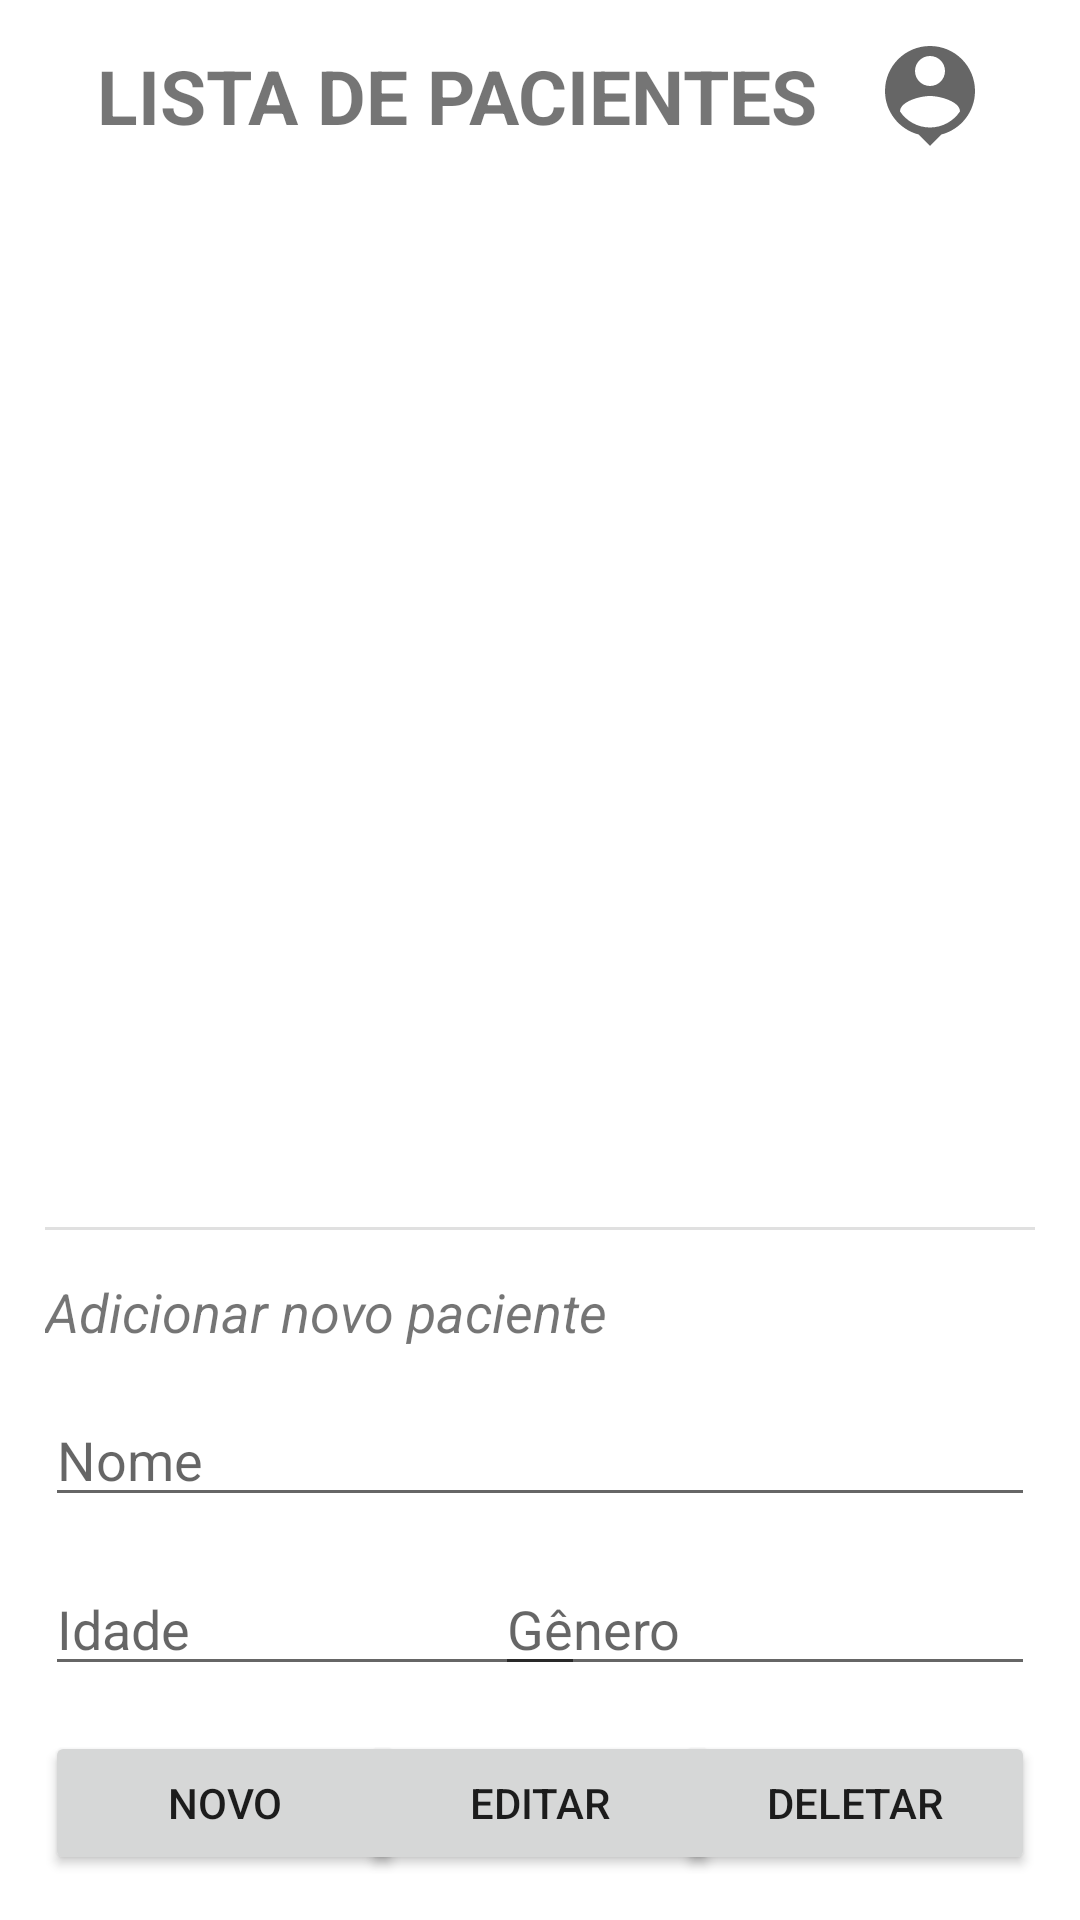

Point at icon controls on the screen. Image size 1080*1920, points as point (x, y).
person: point (930, 96)
